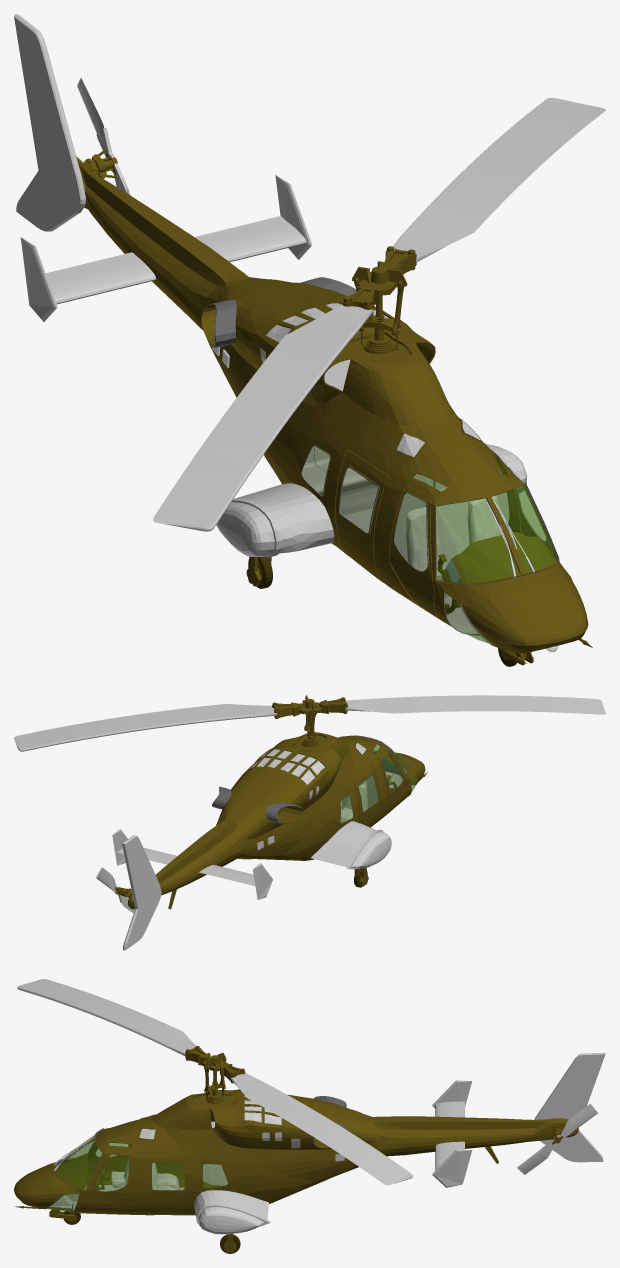
3 renders of one model, top to bottom at view 1: azimuth 30°, elevation 25°; view 2: azimuth 150°, elevation 25°; view 3: azimuth 270°, elevation 25°, orthographic. The views are drawn at different scales.
Visible parts, largest first — view 1: bell, bellprop, belltail, belltop, bellwind, bell01, bellsit, bellfloo, bellpane, bellpro1, bellmeta; view 2: bellprop, bell, belltail, belltop, bell01, bellwind, bellpro1, bellfloo, bellsit; view 3: bell, belltail, bellprop, belltop, bellwind, bell01, bellpro1, bellsit, bellpane, bellmeta, bellfloo.
Part boxes in pixels (bbox=[...]): bell: bbox=[201, 277, 592, 663]; bellprop: bbox=[153, 98, 605, 531]; belltail: bbox=[14, 14, 312, 329]; belltop: bbox=[205, 277, 452, 425]; bellwind: bbox=[302, 446, 556, 643]; bell01: bbox=[216, 443, 527, 557]; bellsit: bbox=[302, 446, 534, 597]; bellfloo: bbox=[324, 359, 509, 633]; bellpane: bbox=[442, 532, 556, 583]; bellpro1: bbox=[77, 78, 130, 195]; bellmeta: bbox=[246, 534, 533, 665]; bellprop: bbox=[14, 695, 605, 751]; bell: bbox=[212, 735, 427, 860]; belltail: bbox=[112, 818, 272, 950]; belltop: bbox=[216, 732, 350, 838]; bell01: bbox=[311, 821, 391, 869]; bellwind: bbox=[340, 744, 417, 822]; bellpro1: bbox=[96, 867, 134, 913]; bellfloo: bbox=[342, 771, 402, 809]; bellsit: bbox=[340, 745, 394, 823]; bell: bbox=[14, 1096, 380, 1215]; belltail: bbox=[369, 1052, 605, 1187]; bellprop: bbox=[17, 979, 413, 1185]; belltop: bbox=[152, 1089, 380, 1149]; bellwind: bbox=[47, 1135, 227, 1212]; bell01: bbox=[194, 1164, 270, 1234]; bellpro1: bbox=[517, 1103, 597, 1174]; bellsit: bbox=[54, 1140, 179, 1190]; bellpane: bbox=[56, 1153, 87, 1188]; bellmeta: bbox=[49, 1158, 236, 1252]; bellfloo: bbox=[50, 1121, 214, 1212].
Bounding box in the file's own units: 922 × 351 × 1118.
